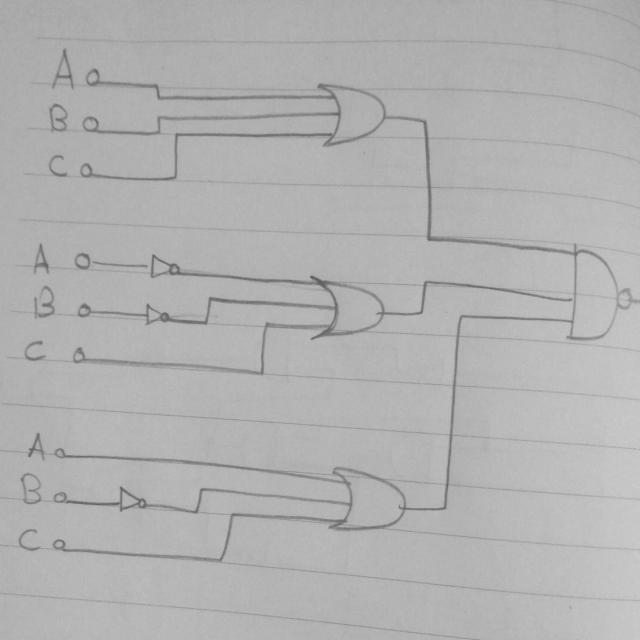NAND: (565, 230, 638, 355)
NOT: (113, 482, 156, 526), (144, 240, 183, 288), (144, 294, 181, 336)
OR: (300, 58, 401, 164), (326, 448, 424, 543), (299, 256, 391, 356)
